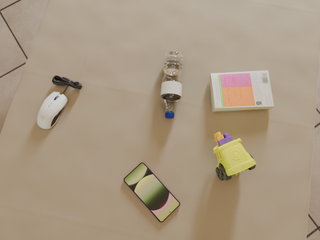book: (210, 71, 274, 112)
bottle: (161, 50, 183, 118)
mouse: (37, 92, 67, 129)
phone: (124, 162, 180, 223)
toy_car: (214, 132, 256, 180)
